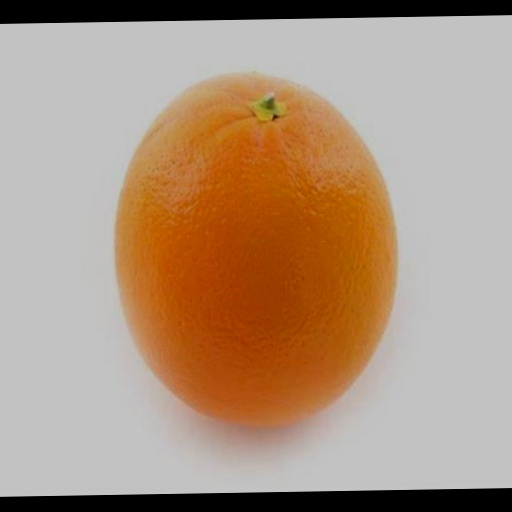fruit: (115, 74, 395, 425)
